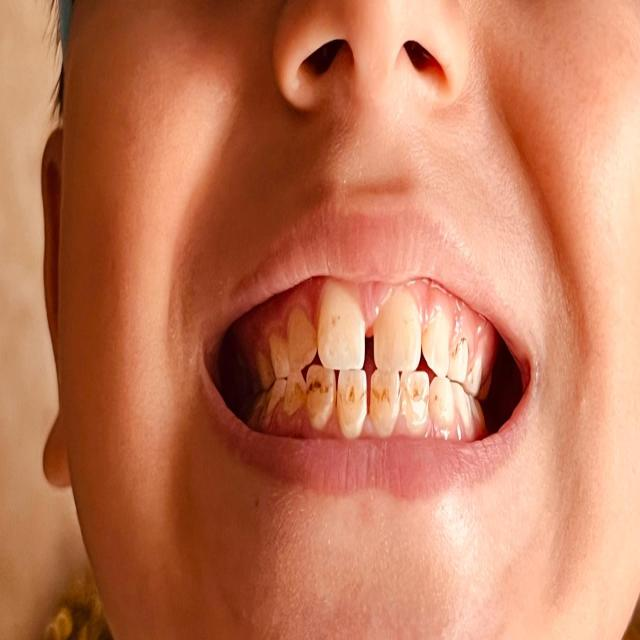tooth: (324, 288, 362, 366), (377, 302, 419, 370), (336, 372, 370, 432), (426, 313, 450, 371), (404, 377, 430, 430), (289, 309, 312, 366), (314, 369, 332, 422), (378, 378, 398, 424), (269, 335, 291, 374), (290, 375, 306, 423), (454, 332, 469, 383), (440, 383, 456, 430), (463, 388, 477, 434), (271, 383, 283, 418)
